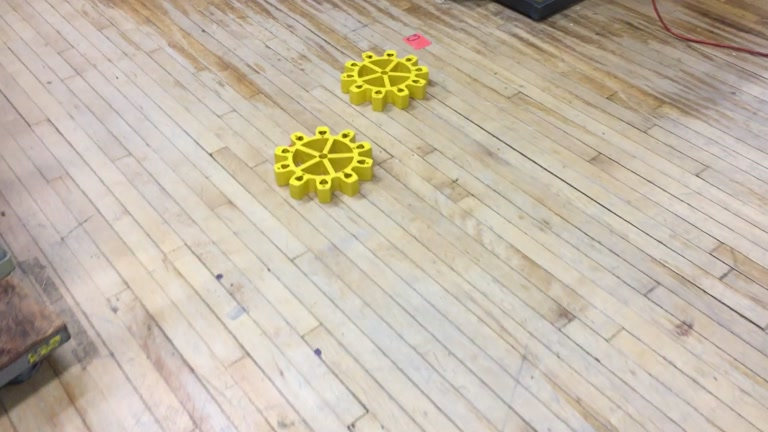gear: (273, 124, 374, 203), (338, 48, 429, 112)
